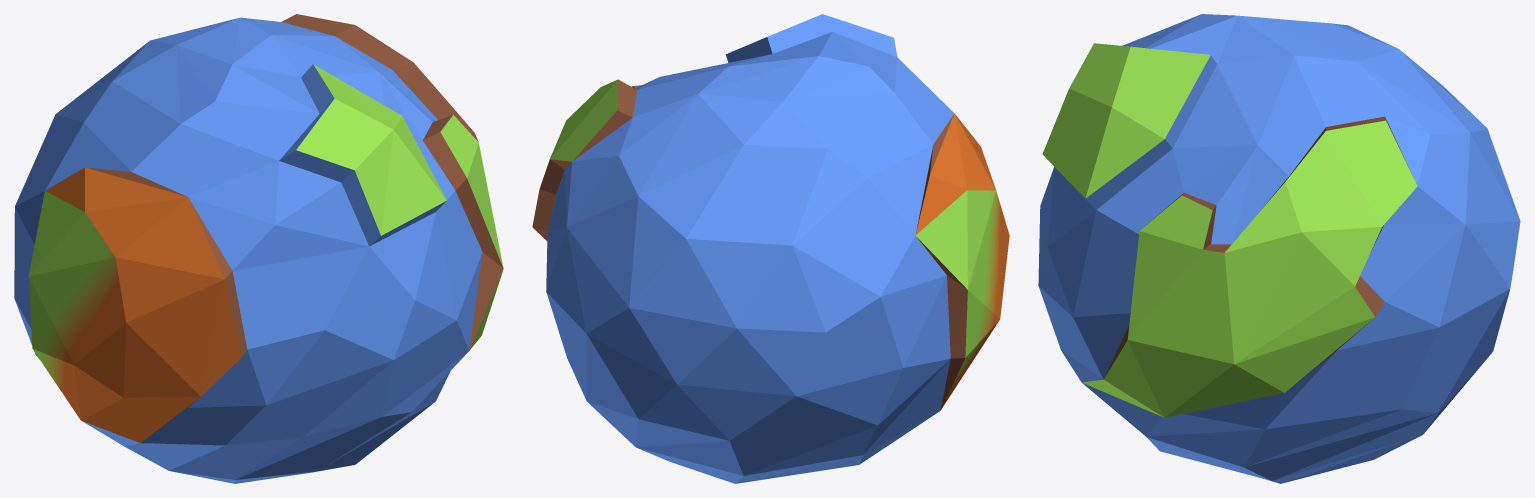
The model's file is Planet1.fbx.
The picture shows the model from 3 angles, left to right: view 1: azimuth 30°, elevation 25°; view 2: azimuth 150°, elevation 25°; view 3: azimuth 270°, elevation 25°; orthographic projection. The views are drawn at different scales.
Parts seen in each view (by area): view 1: Planet1; view 2: Planet1; view 3: Planet1.
Boxes of the visible parts, box(x1,y1,x2,y2) form: Planet1: box(14, 14, 503, 483); Planet1: box(532, 14, 1009, 483); Planet1: box(1038, 14, 1520, 483).
Size of the model in its own units: 20.91 by 19.37 by 19.98.
